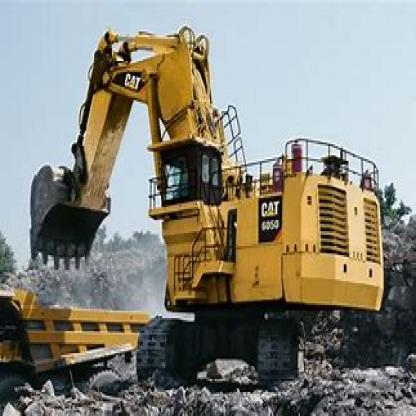excavator: (22, 19, 394, 388)
